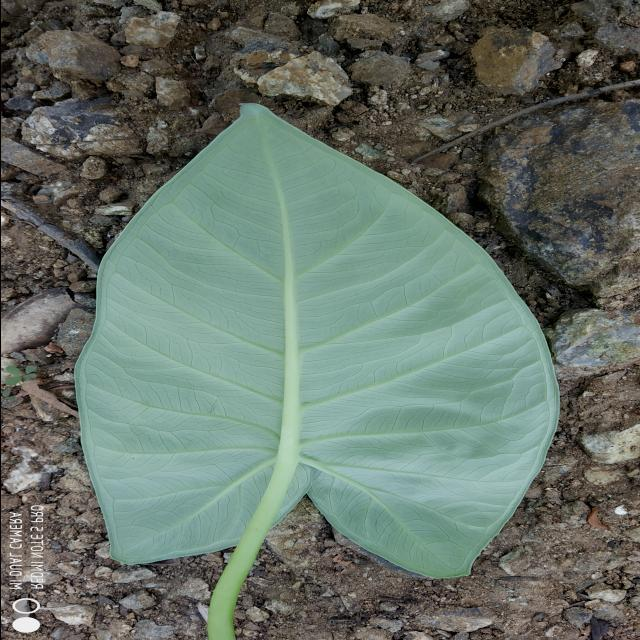leaf: (72, 101, 560, 639)
